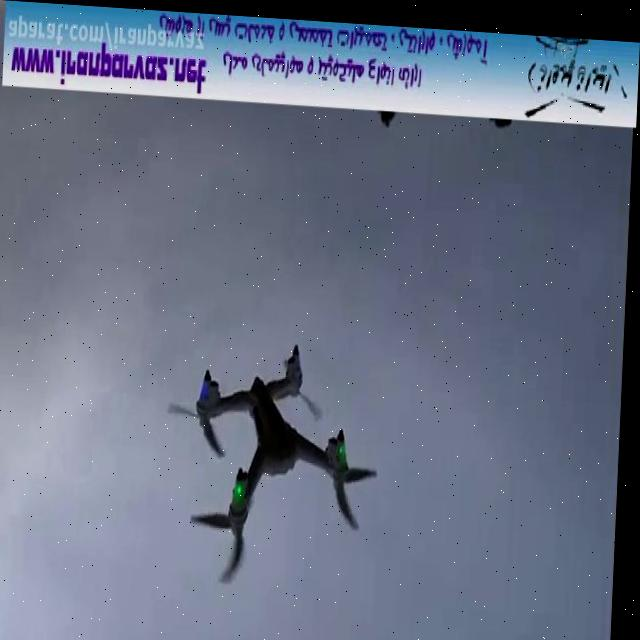drone: (160, 328, 391, 601)
